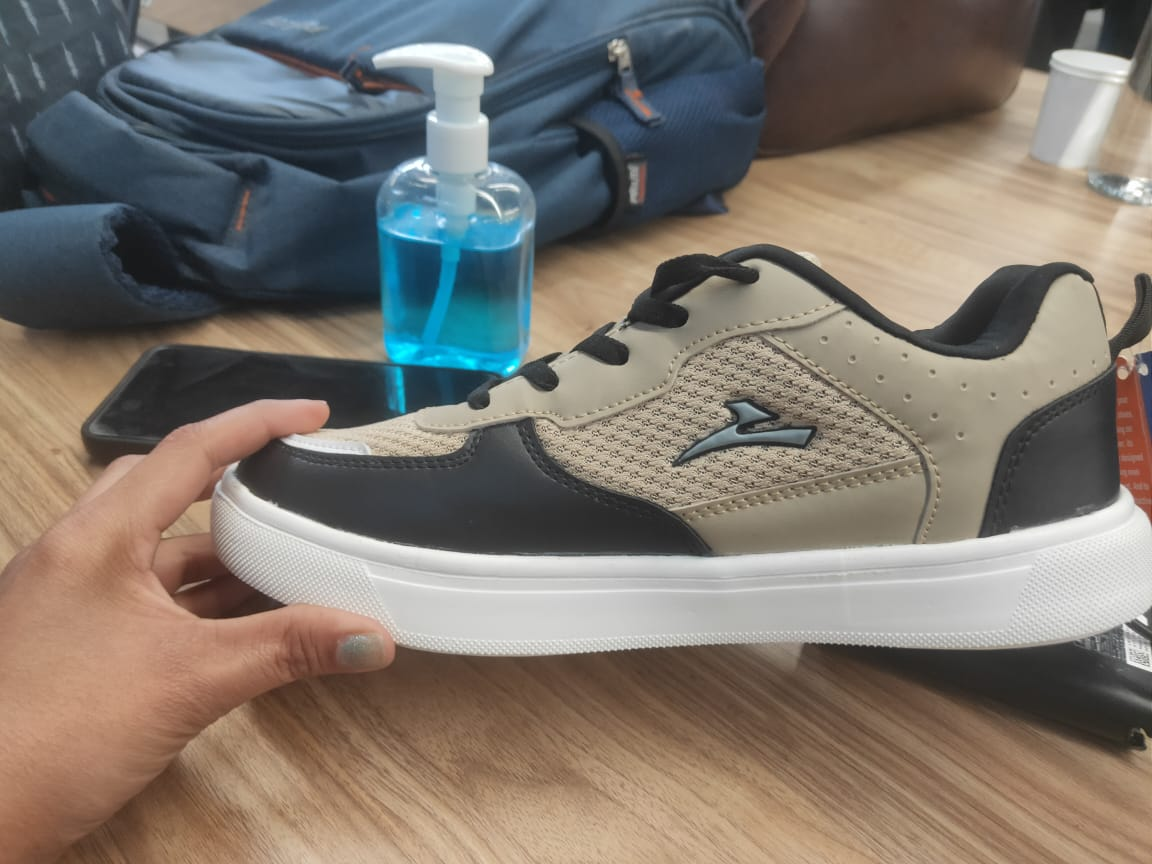Footwear: (219, 234, 1146, 659)
